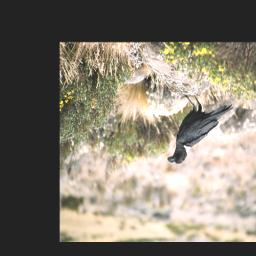Crow: (166, 92, 234, 167)
